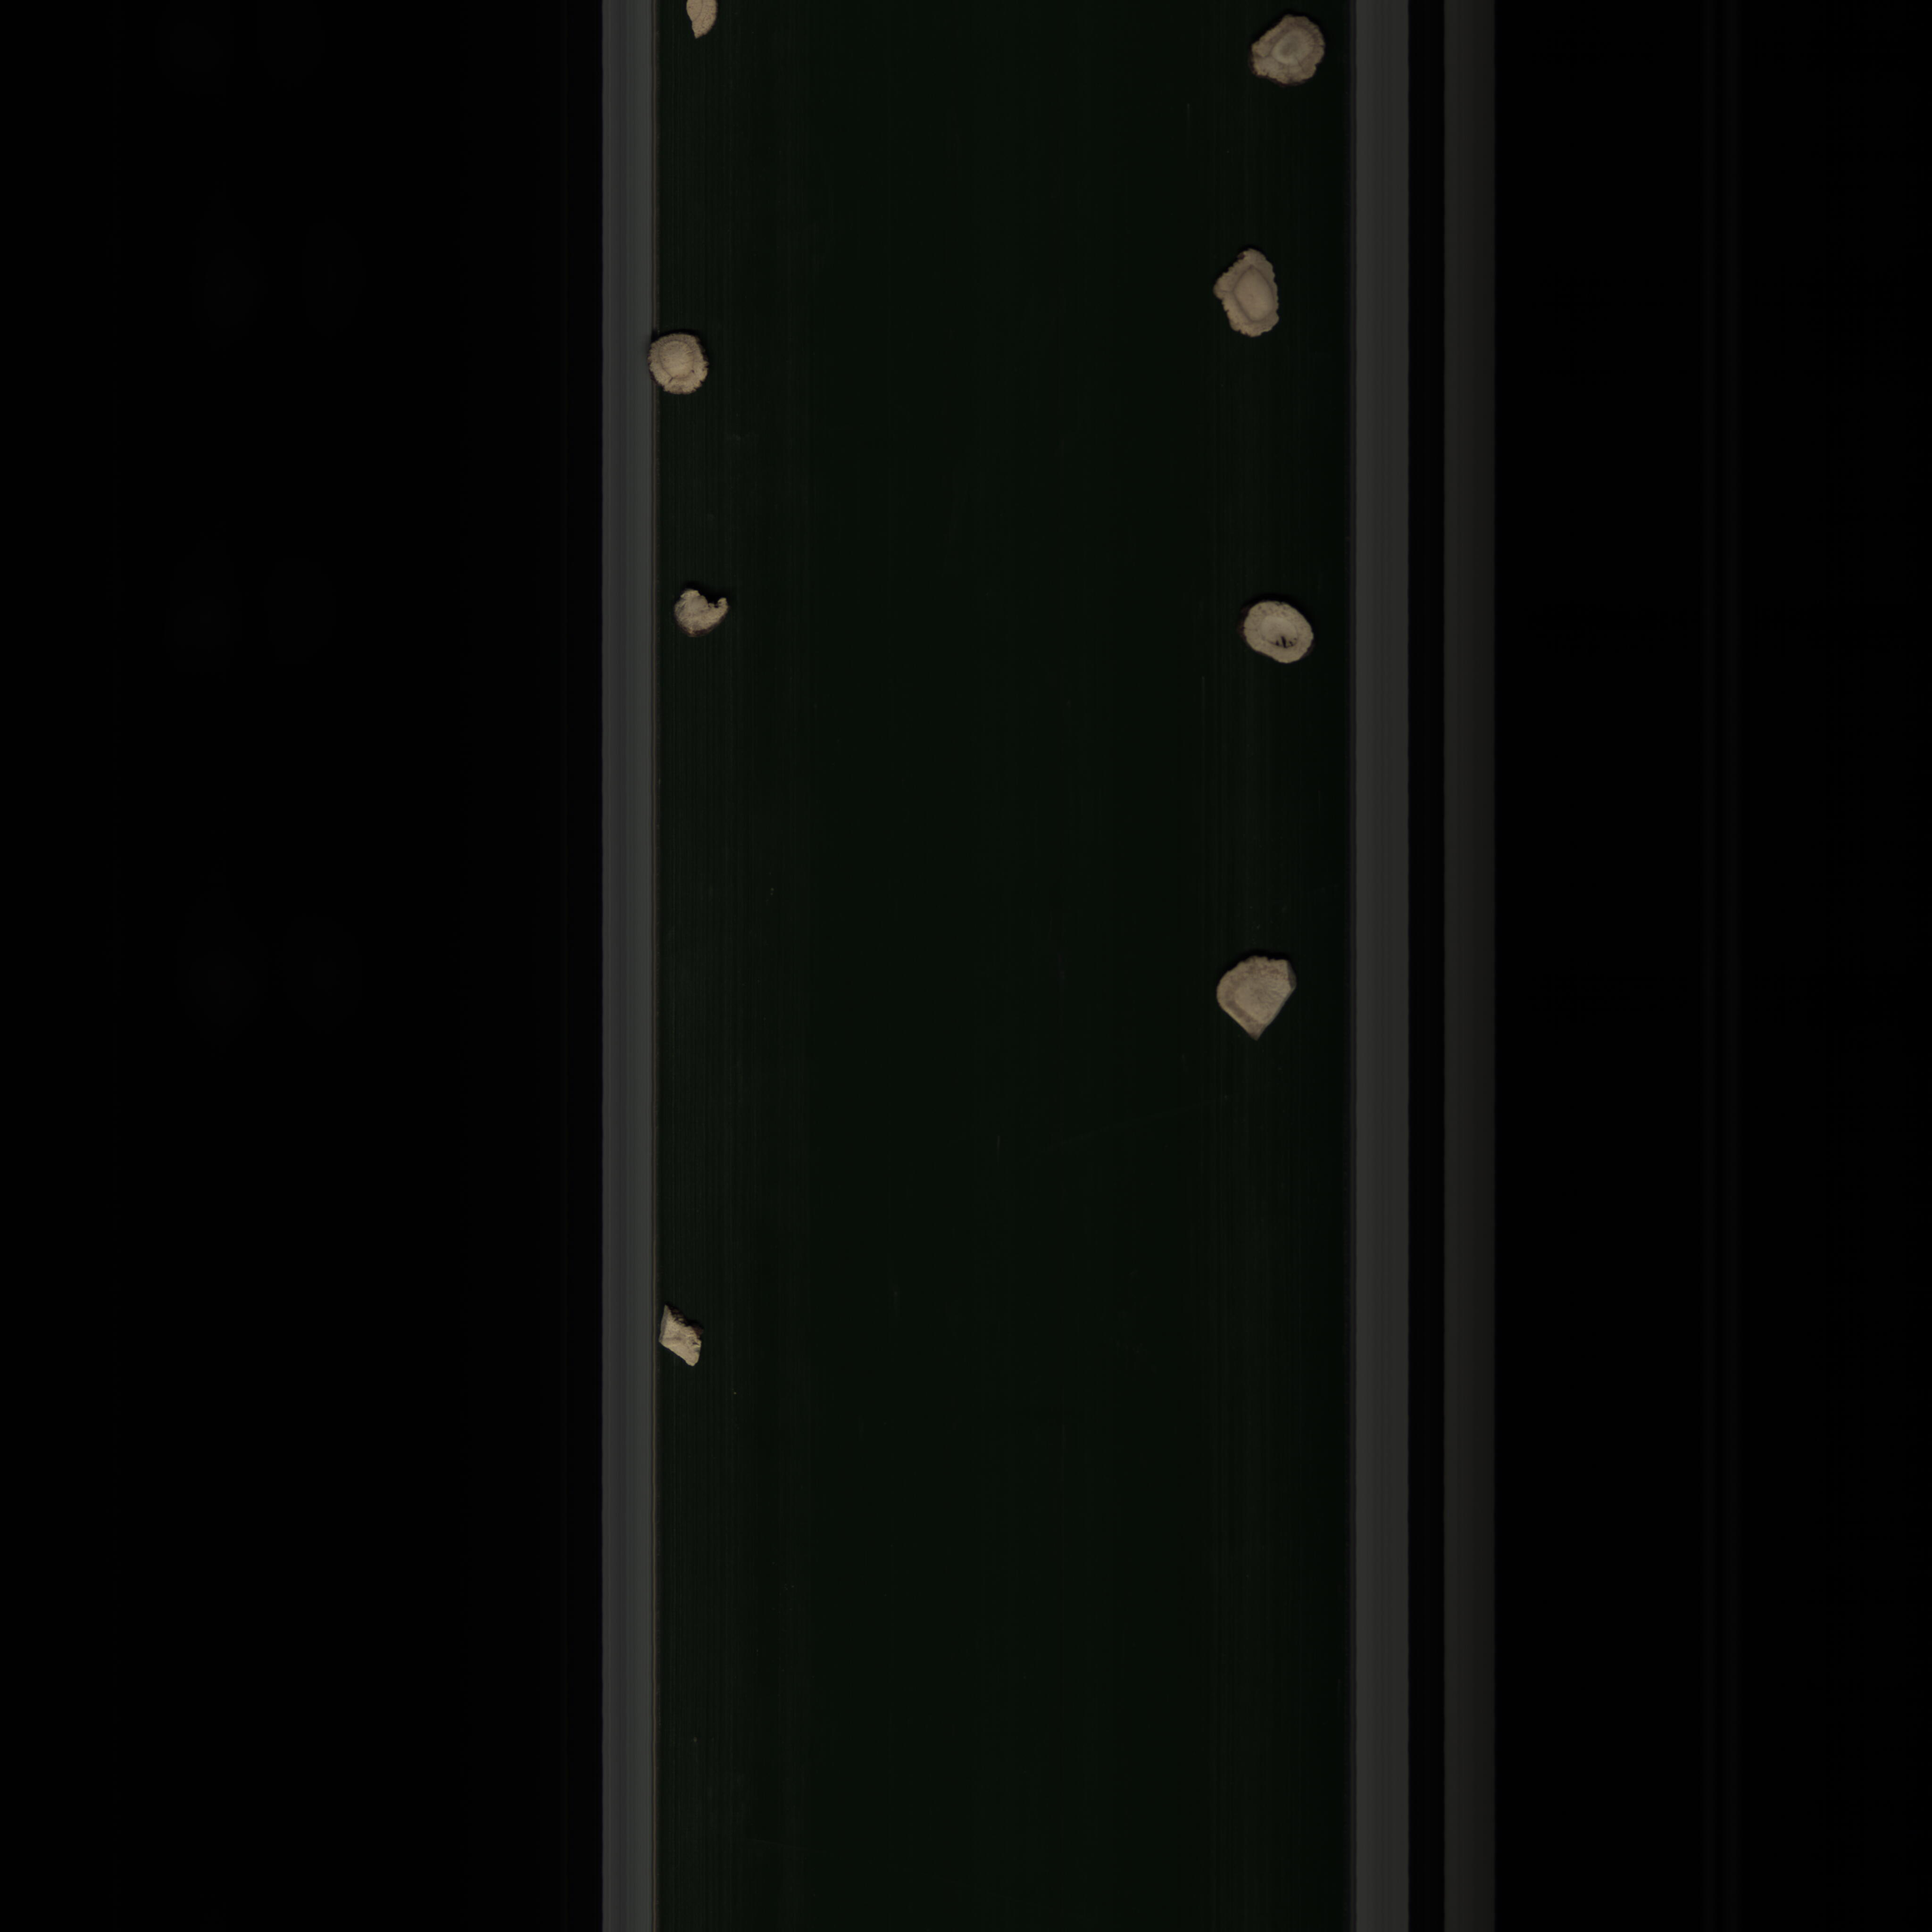debris: (1208, 945, 1300, 1053), (1208, 239, 1290, 347), (663, 573, 741, 653), (655, 1293, 713, 1378)
hole: (1233, 589, 1318, 685)
moldy: (1246, 14, 1332, 81)
